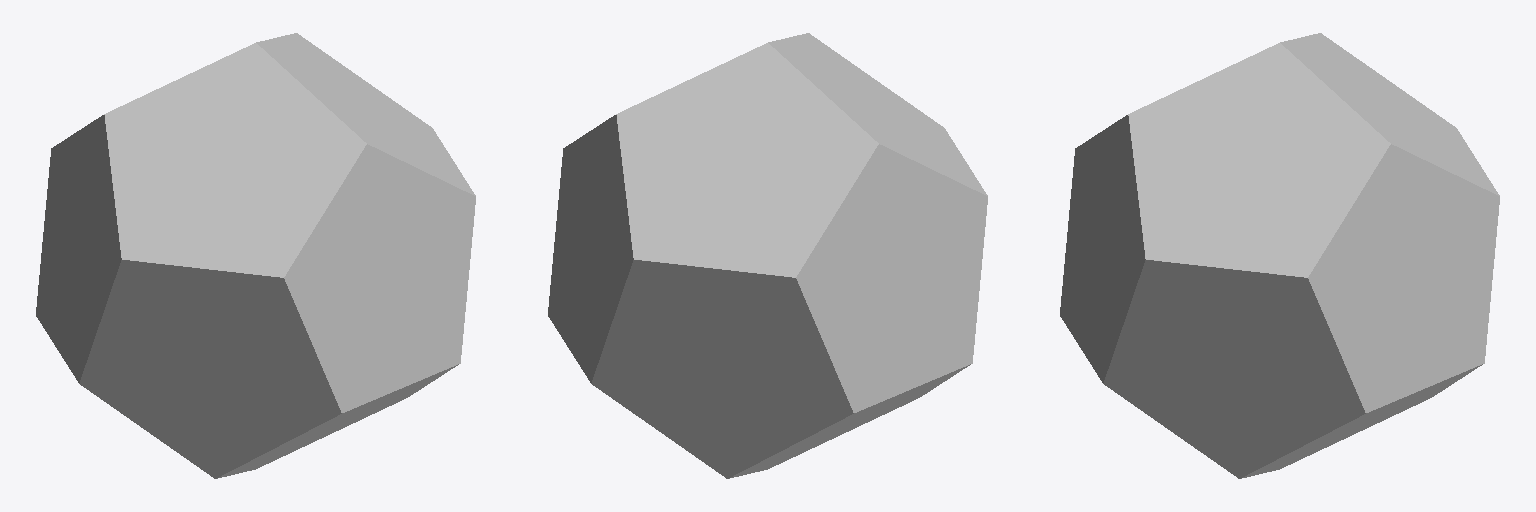
File: mana_essence.obj
3 views of the same model, side by side, from view 1: azimuth 30°, elevation 25°; view 2: azimuth 150°, elevation 25°; view 3: azimuth 270°, elevation 25° (orthographic).
Parts seen in each view (by area): view 1: r04; view 2: r04; view 3: r04.
Boxes of the visible parts, x1,y1,x2,y2 form: r04: [36, 33, 475, 478]; r04: [548, 33, 987, 478]; r04: [1060, 33, 1499, 478].
Size of the model in its own units: 0.4677 by 0.5 by 0.4676.